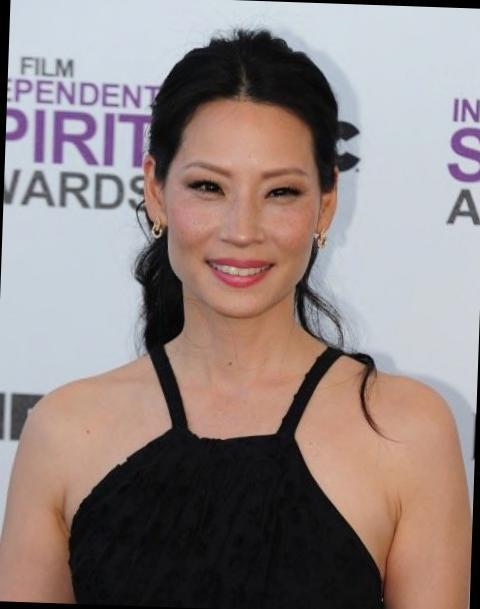Sober: (178, 112, 311, 308)
